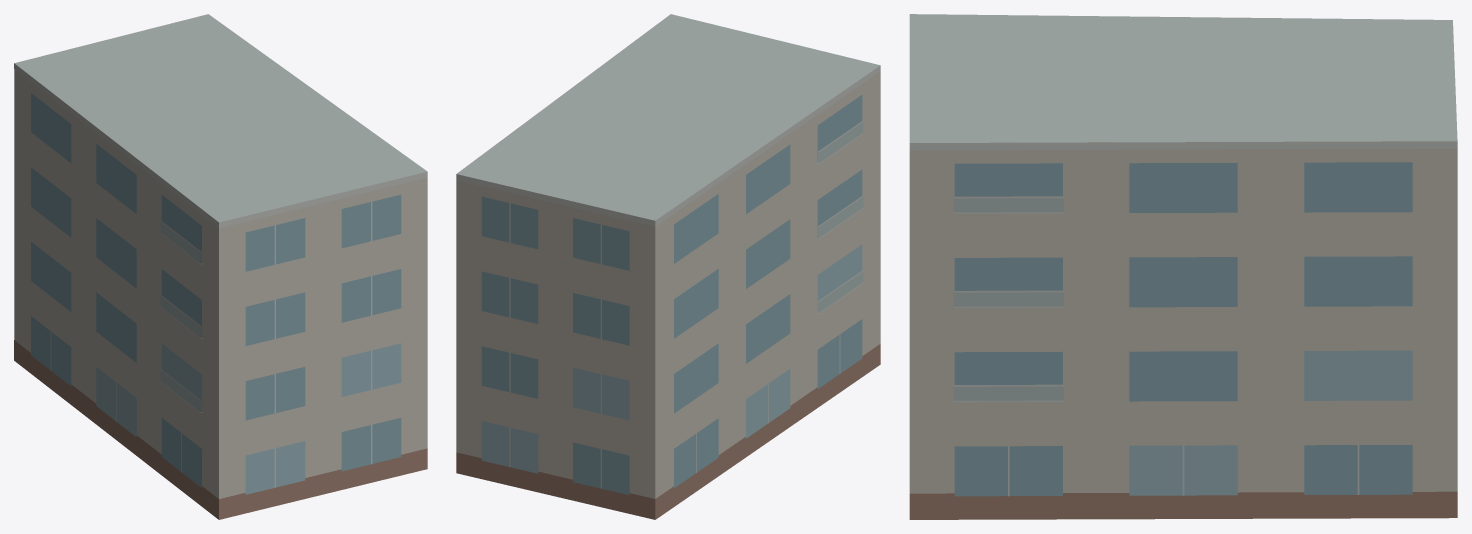
File: survey-upis-32618959.glb
3 views of the same model, side by side, from view 1: azimuth 30°, elevation 25°; view 2: azimuth 150°, elevation 25°; view 3: azimuth 270°, elevation 25° (orthographic). The views are drawn at different scales.
Parts seen in each view (by area): view 1: survey-upis-32618959.tmp; view 2: survey-upis-32618959.tmp; view 3: survey-upis-32618959.tmp.
Boxes of the visible parts, left/top/right/bottom form: survey-upis-32618959.tmp: left=14, top=14, right=427, bottom=519; survey-upis-32618959.tmp: left=456, top=14, right=880, bottom=519; survey-upis-32618959.tmp: left=909, top=14, right=1457, bottom=519.
Bounding box in the file's own units: 9.07 × 12.3 × 16.23.
